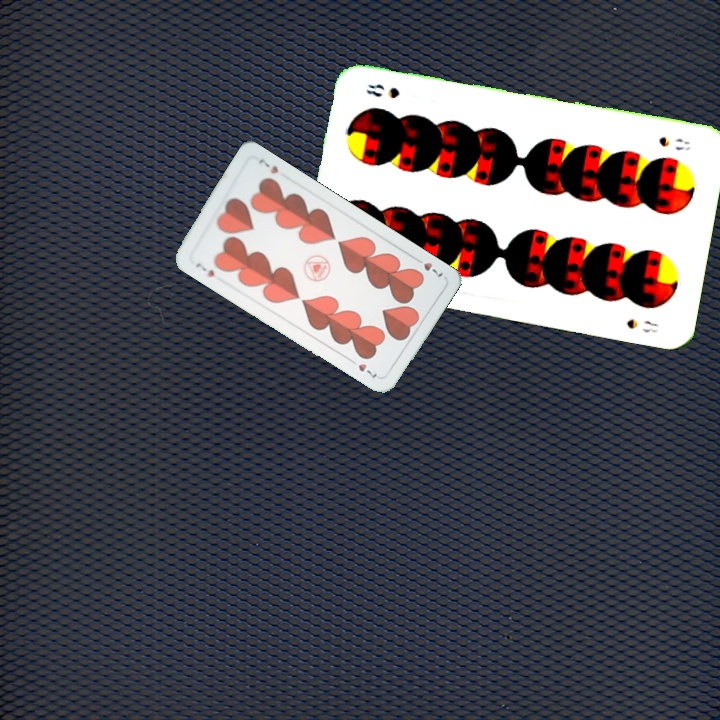H7: (410, 253, 446, 280), (192, 259, 217, 280)
S8: (654, 133, 693, 154)
